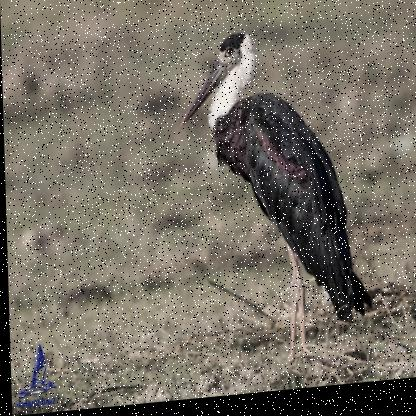Burung: (174, 24, 368, 372)
